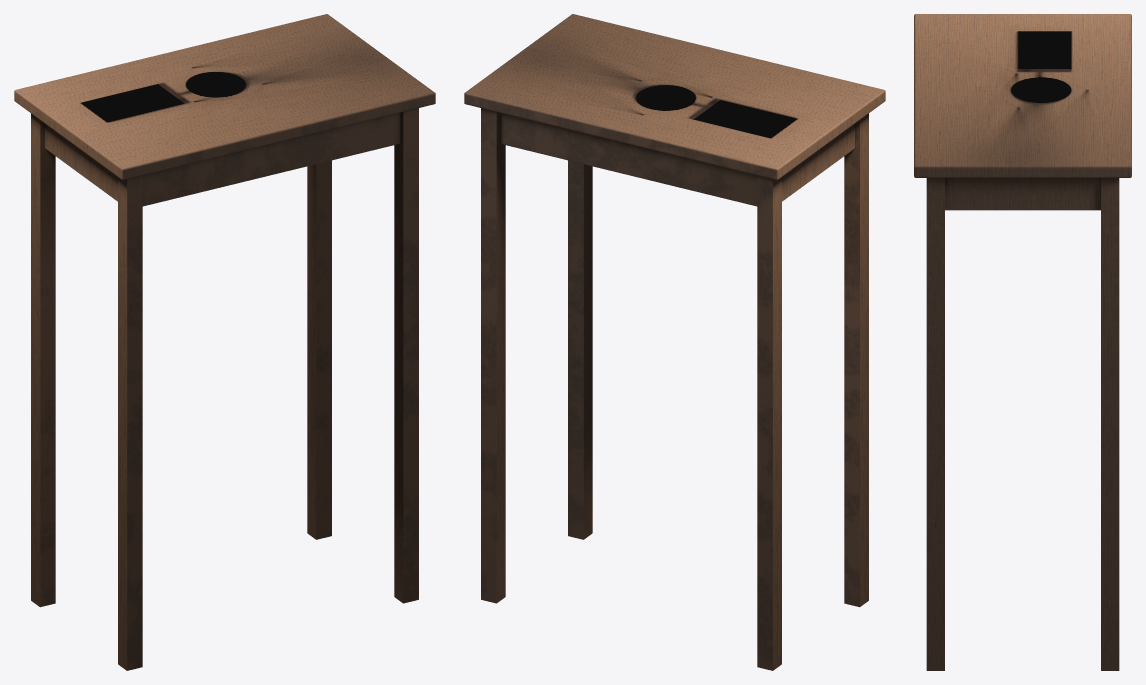
File: 807_heat.glb
3 renders of one model, left to right at view 1: azimuth 30°, elevation 25°; view 2: azimuth 150°, elevation 25°; view 3: azimuth 270°, elevation 25°, orthographic.
Visible parts, largest first — view 1: Table; view 2: Table; view 3: Table.
Part boxes in pixels (x1,y1,x2,y2): Table: [14, 14, 435, 670]; Table: [464, 14, 885, 670]; Table: [914, 14, 1131, 670].
Size of what is drawn, in the model's own units: 2 by 3.1 by 1.2.
1 material, 1 textured.
